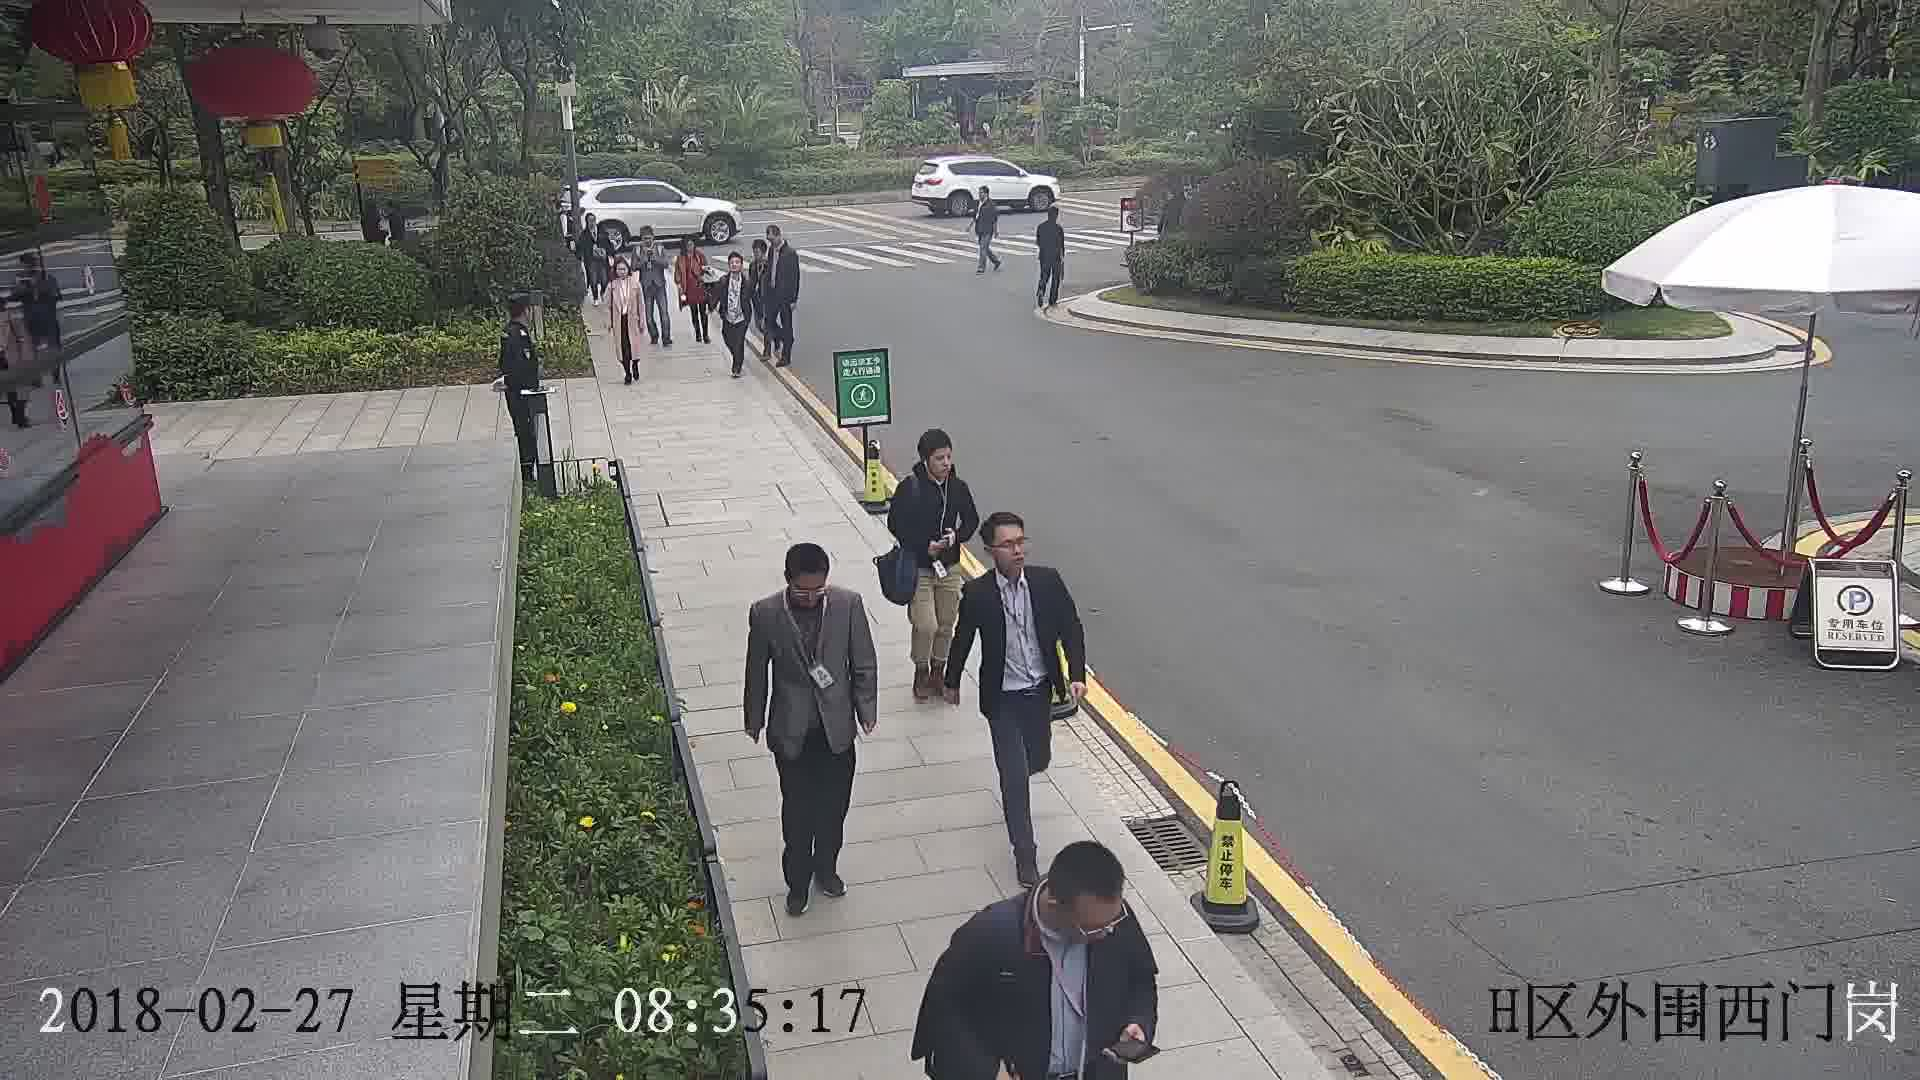face: (1067, 893, 1118, 945), (982, 523, 1030, 576)
person: (961, 839, 1145, 973), (746, 538, 868, 642), (965, 508, 1066, 608), (893, 425, 973, 509), (502, 292, 536, 345), (718, 249, 749, 282), (767, 222, 794, 258), (611, 254, 638, 288), (746, 235, 772, 269), (1035, 206, 1066, 234), (679, 236, 707, 265), (970, 185, 999, 212), (638, 225, 663, 253), (581, 209, 601, 237), (381, 200, 400, 219)
